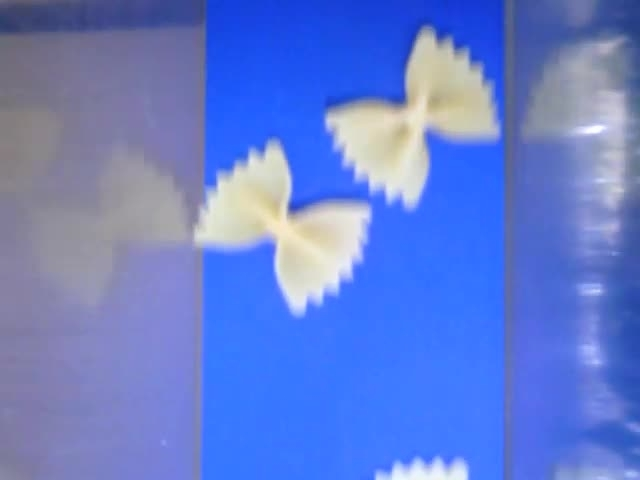farfalle: (323, 26, 501, 210), (196, 138, 373, 319)
